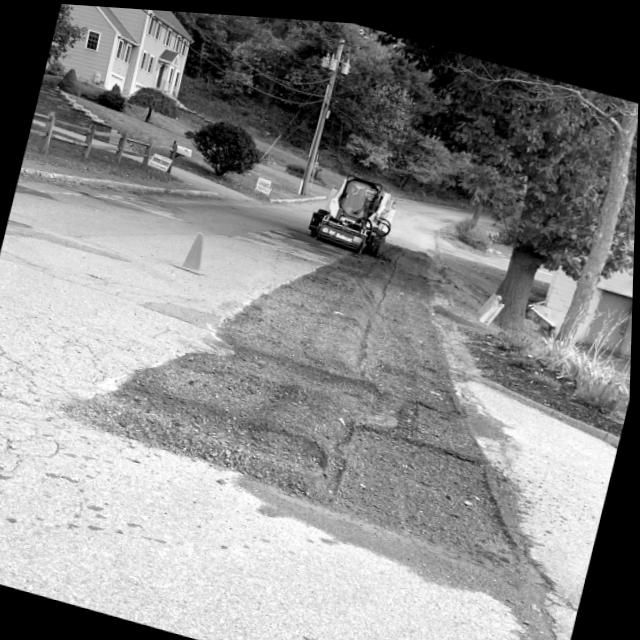cleat: (0, 3, 639, 640)
